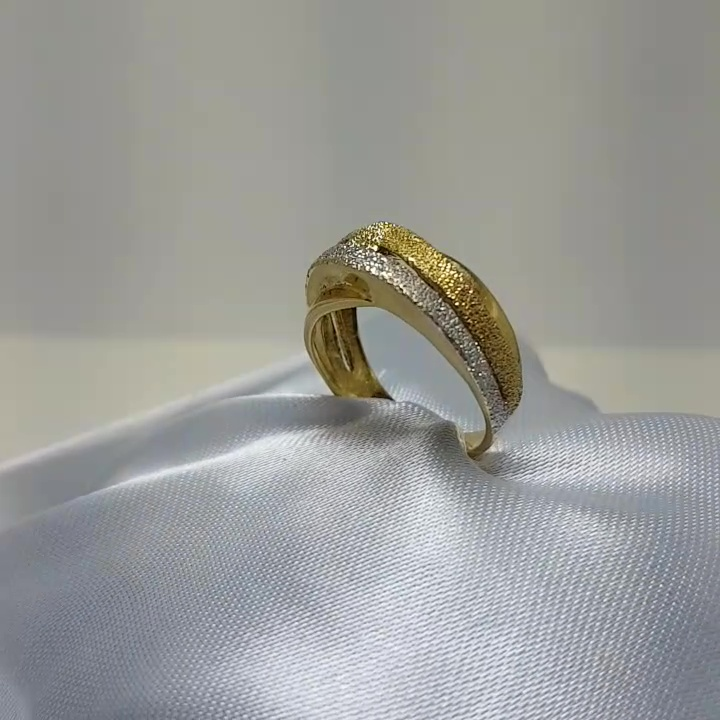Ring 5: (282, 192, 548, 480)
